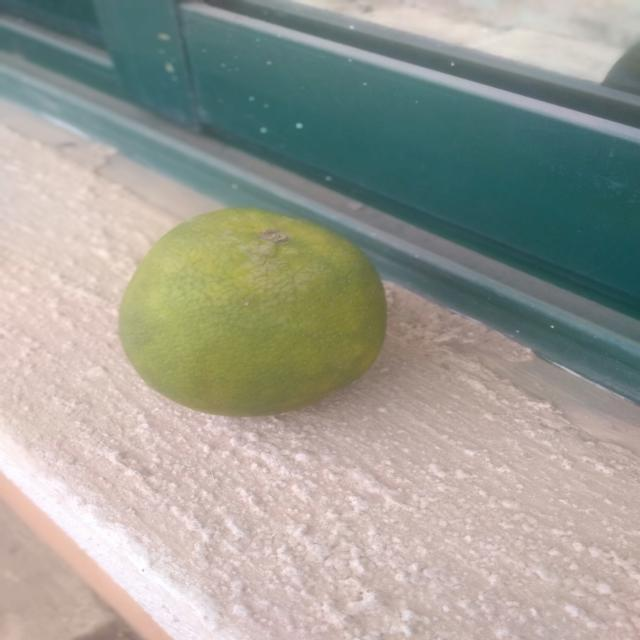Unripe: (115, 194, 416, 428)
